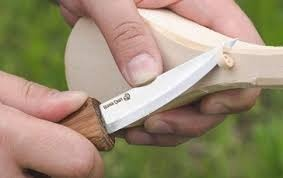knife: (47, 38, 239, 155)
